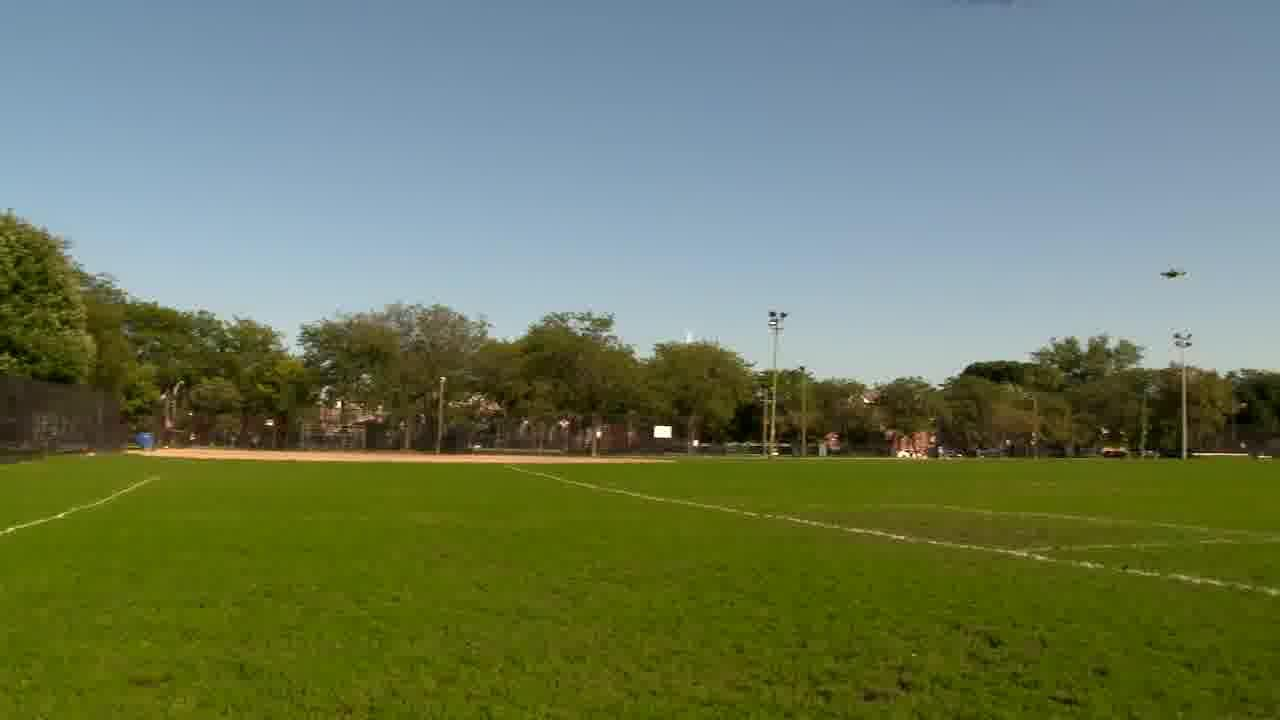drone: (1149, 259, 1199, 293)
